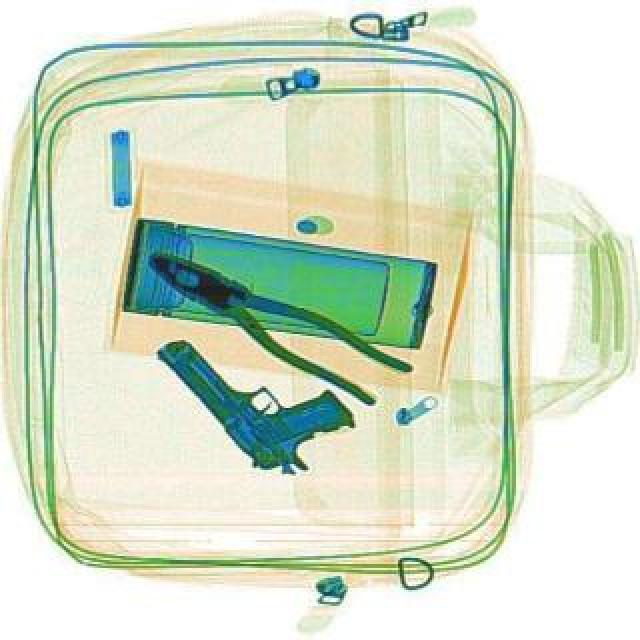gun: (152, 288, 362, 492)
wrench: (134, 226, 412, 416)
